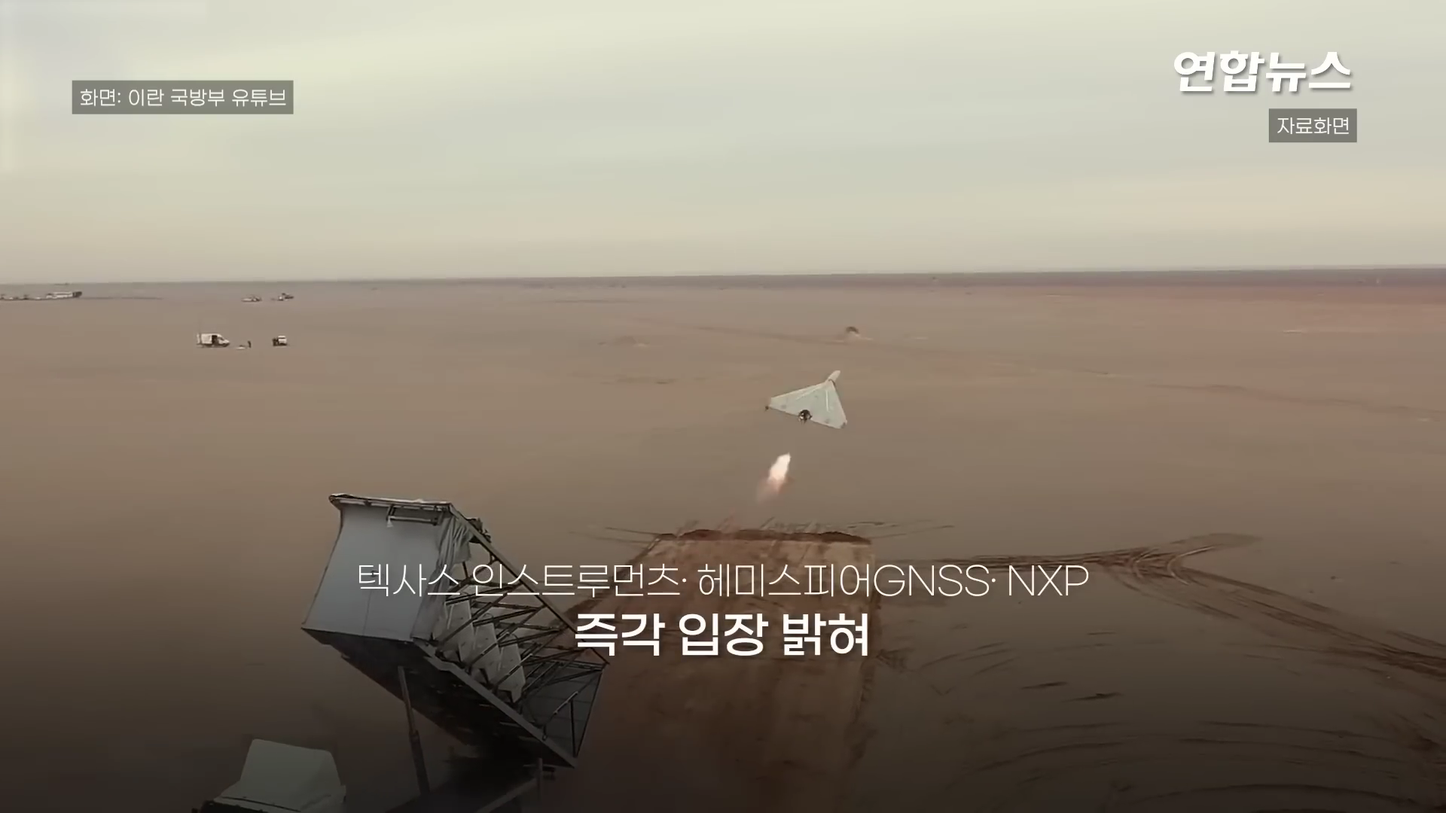shahed: (763, 371, 846, 430)
